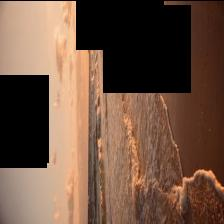brown: (135, 0, 224, 183)
